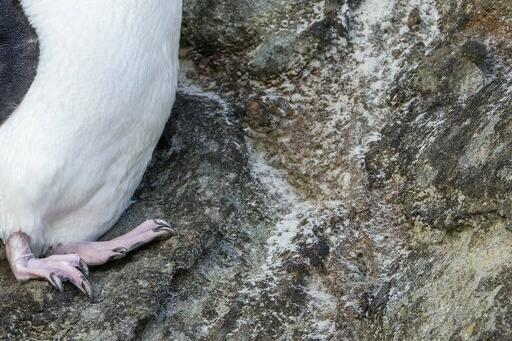Southern Rockhopper Penguin: (0, 0, 221, 306)
